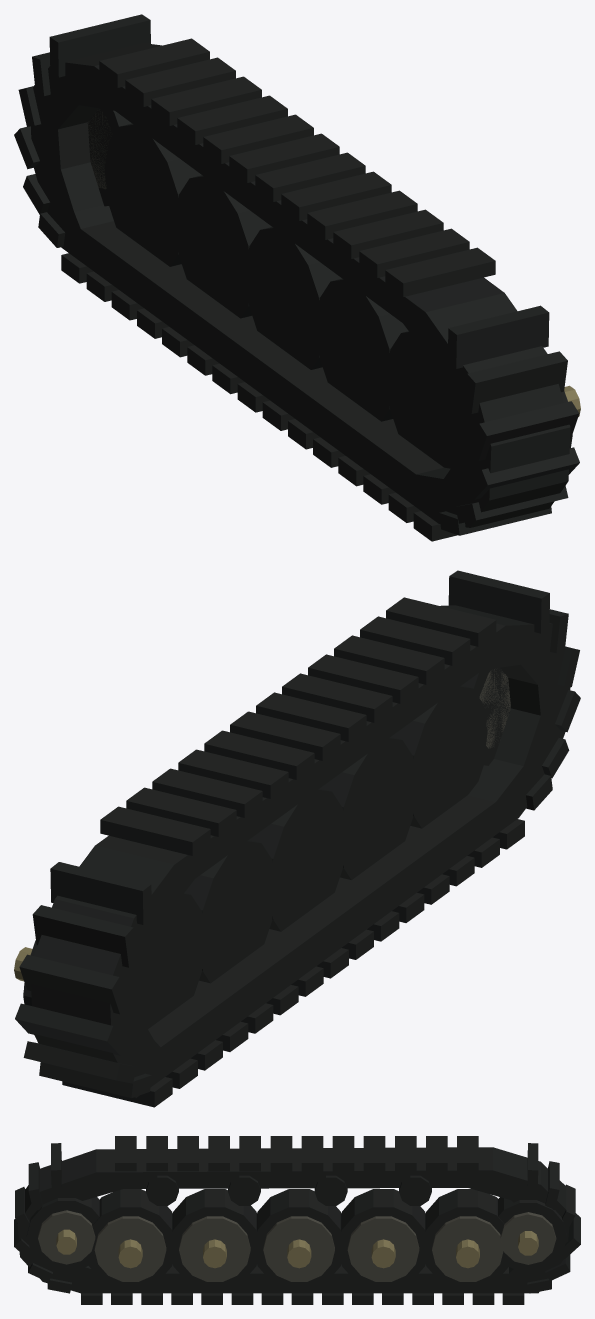
File: Bastion_RightTrack.obj
The picture shows the model from 3 angles, top to bottom: view 1: azimuth 30°, elevation 25°; view 2: azimuth 150°, elevation 25°; view 3: azimuth 270°, elevation 25°; orthographic projection. The views are drawn at different scales.
Parts seen in each view (by area): view 1: Bastion_RightTrack; view 2: Bastion_RightTrack; view 3: Bastion_RightTrack.
Boxes of the visible parts, left/top/right/bottom form: Bastion_RightTrack: left=14, top=14, right=580, bottom=541; Bastion_RightTrack: left=14, top=570, right=580, bottom=1107; Bastion_RightTrack: left=14, top=1136, right=580, bottom=1304.
Bounding box in the file's own units: 0.785 × 1.38 × 4.98.
Materials: 1 (1 with a texture image).
